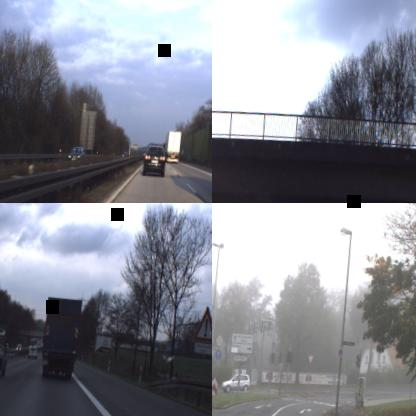DANGER: (191, 304, 212, 343)
give way: (306, 353, 314, 365)
go straight: (214, 348, 221, 360)
priority road: (214, 332, 224, 348)
